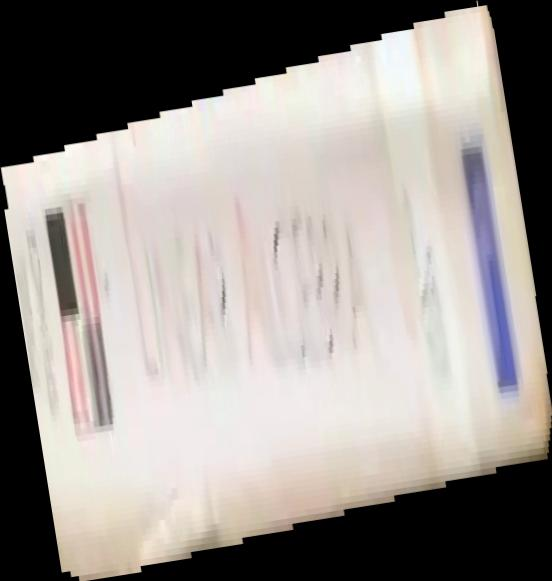flat: (1, 1, 552, 581)
